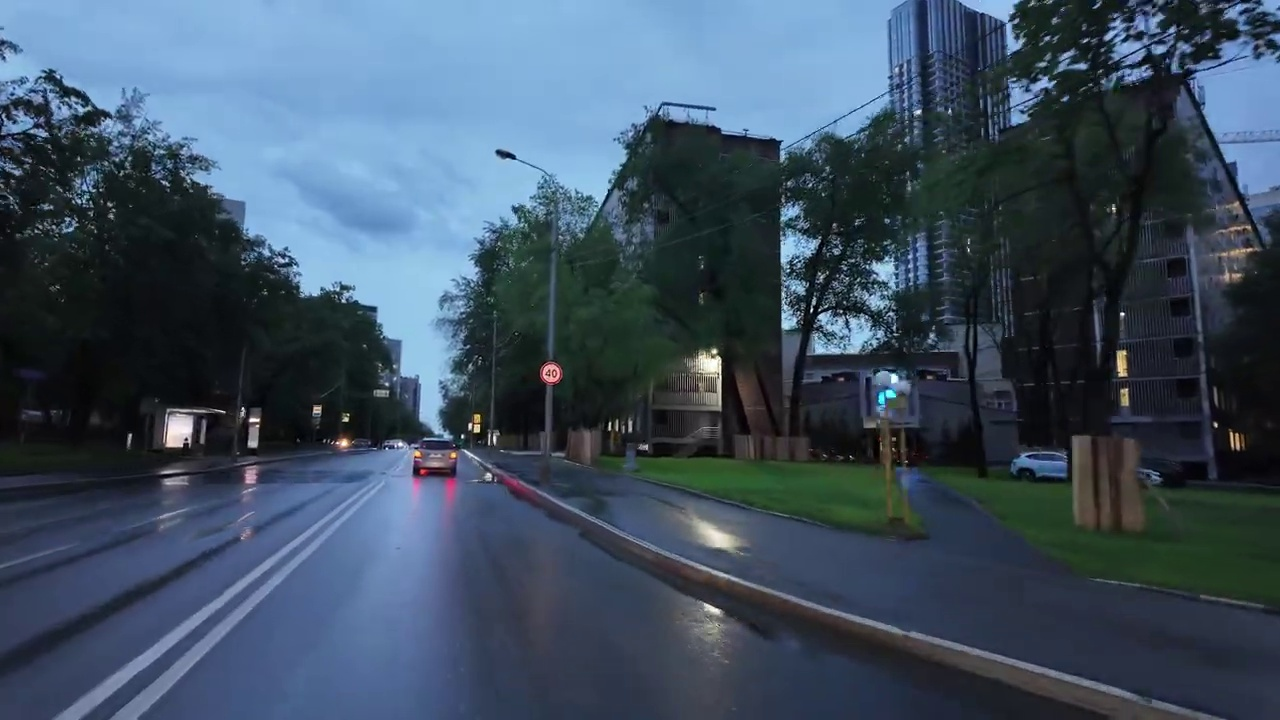apagada: (491, 143, 519, 169)
